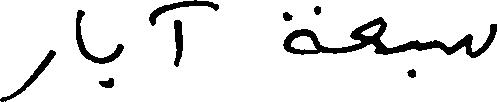X: (0, 45, 53, 101), (441, 19, 496, 62), (284, 1, 317, 59), (351, 12, 385, 59), (174, 0, 183, 71), (76, 5, 83, 60), (413, 35, 421, 82), (116, 39, 123, 62)
